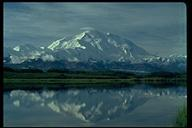mountain: (5, 21, 186, 74)
sky: (14, 5, 182, 23)
snow: (66, 41, 123, 57)
water: (7, 82, 182, 123)
